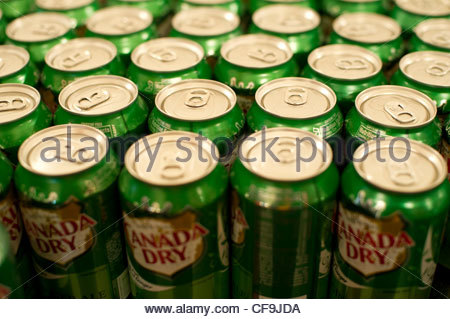Lata: (15, 121, 132, 296)
